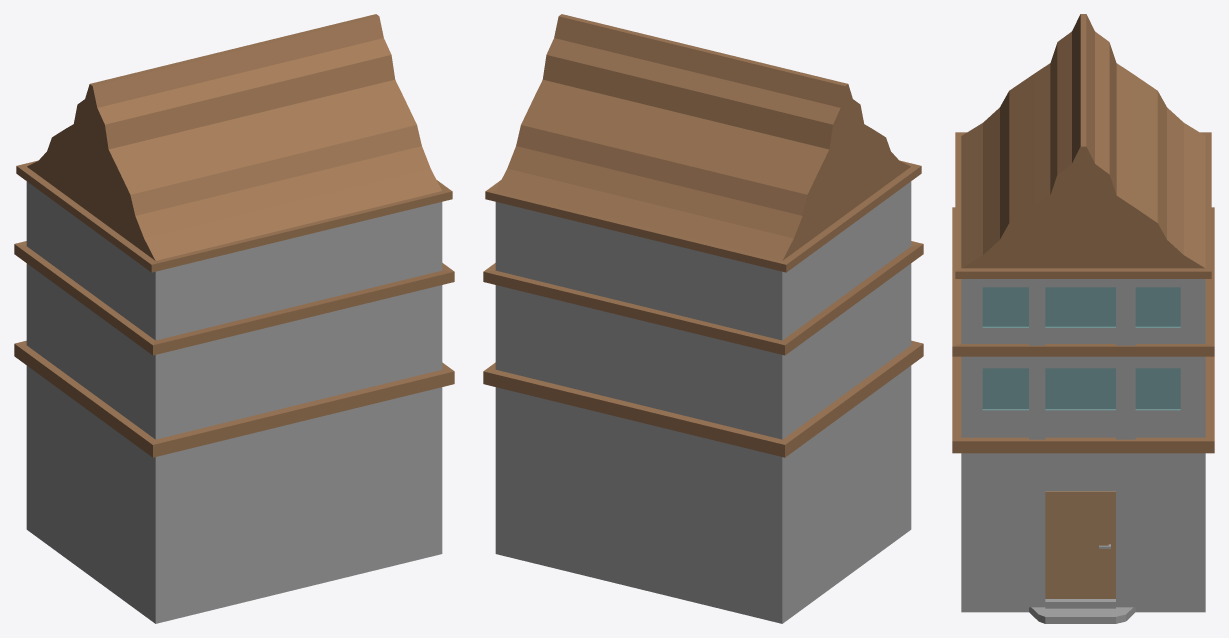
Rendered from housec.fbx.
3 renders of one model, left to right at view 1: azimuth 30°, elevation 25°; view 2: azimuth 150°, elevation 25°; view 3: azimuth 270°, elevation 25°, orthographic. The views are drawn at different scales.
Visible parts, largest first — view 1: heusa:houseS1; view 2: heusa:houseS1; view 3: heusa:houseS1.
Boxes of the visible parts, left/top/right/bottom form: heusa:houseS1: left=14, top=14, right=454, bottom=623; heusa:houseS1: left=483, top=14, right=923, bottom=623; heusa:houseS1: left=952, top=14, right=1214, bottom=623.
Size of the model in its own units: 17.01 by 25.03 by 12.78.
